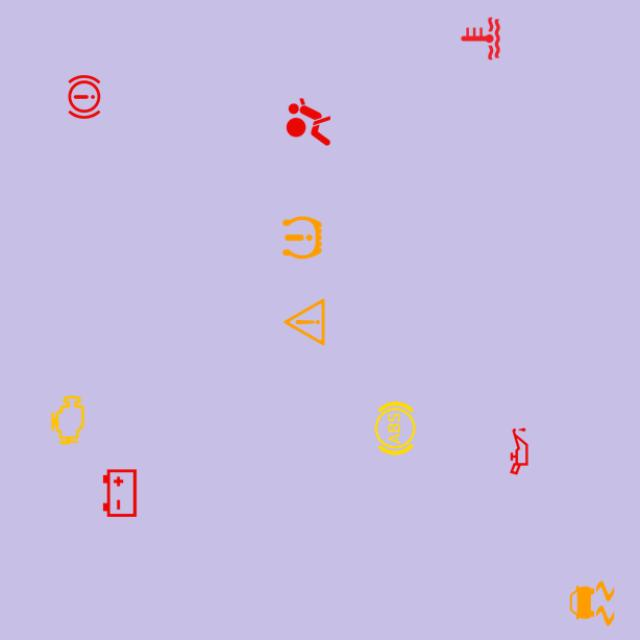Anti Lock Braking System: (366, 399, 424, 458)
Braking System Issue: (55, 68, 114, 126)
Charging System Issue: (91, 464, 149, 522)
Check Engine: (39, 391, 97, 449)
Electronic Stability Problem -ESP-: (563, 574, 621, 633)
Engine Overheating Warning Light: (451, 9, 510, 68)
Low Engine Oil Warning Light: (490, 422, 548, 481)
Low Tire Pressure Warning Light: (273, 208, 332, 267)
Master warning light: (275, 293, 334, 351)
SRS-Airbag: (279, 93, 338, 151)
